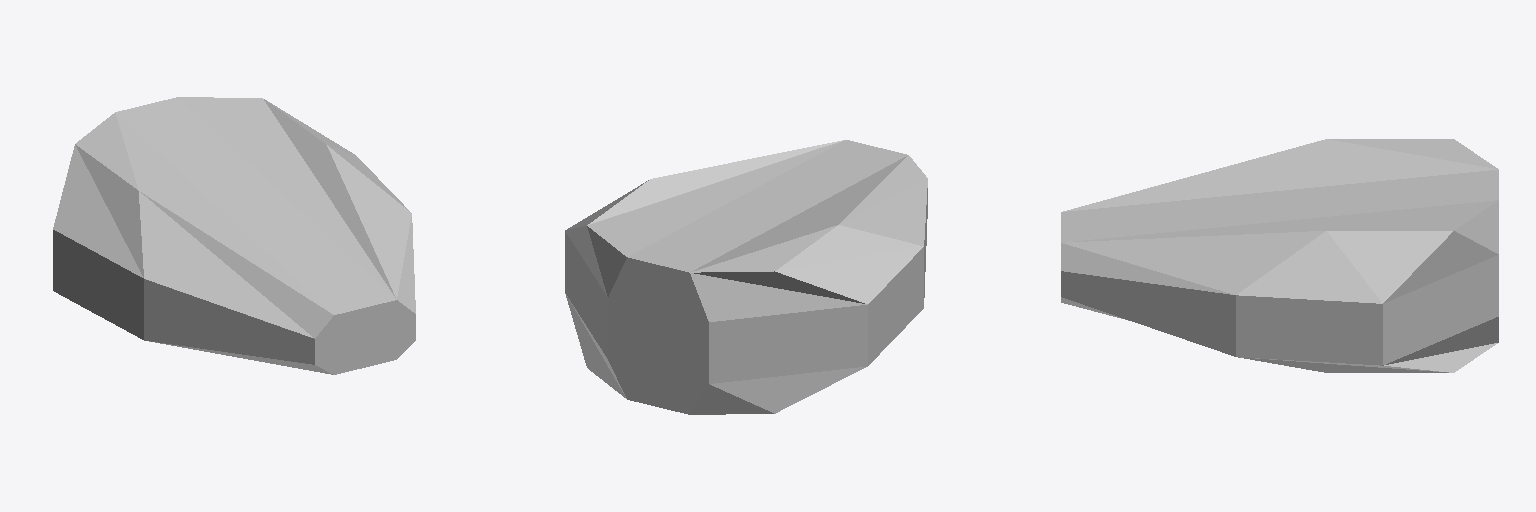
Rendered from WhalePart7.obj.
3 views of the same model, side by side, from view 1: azimuth 30°, elevation 25°; view 2: azimuth 150°, elevation 25°; view 3: azimuth 270°, elevation 25° (orthographic).
Visible parts, largest first — view 1: Part7; view 2: Part7; view 3: Part7.
Part boxes in pixels (left/top/right/bottom): Part7: left=53, top=97, right=415, bottom=374; Part7: left=565, top=140, right=927, bottom=414; Part7: left=1061, top=139, right=1498, bottom=372.
Bounding box in the file's own units: 1.77 × 0.7927 × 2.21.